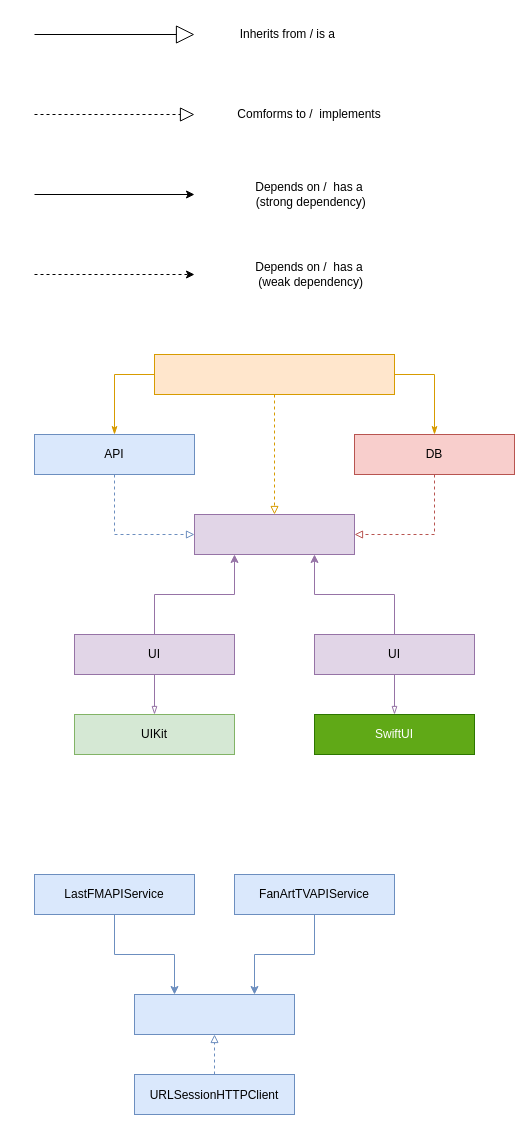
Image size: 532x1132. Some labels were removed from this diagram. Here are the shapes that lost their labels. From the top down, the centre of each, then its label:
(x=274, y=374): Main
(x=274, y=534): <Feature>
(x=214, y=1014): <HTTPClient>
